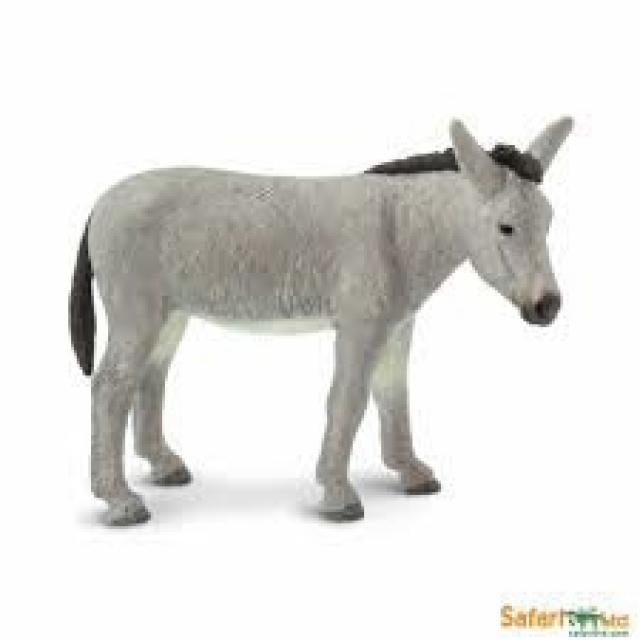donkey: (68, 117, 569, 523)
